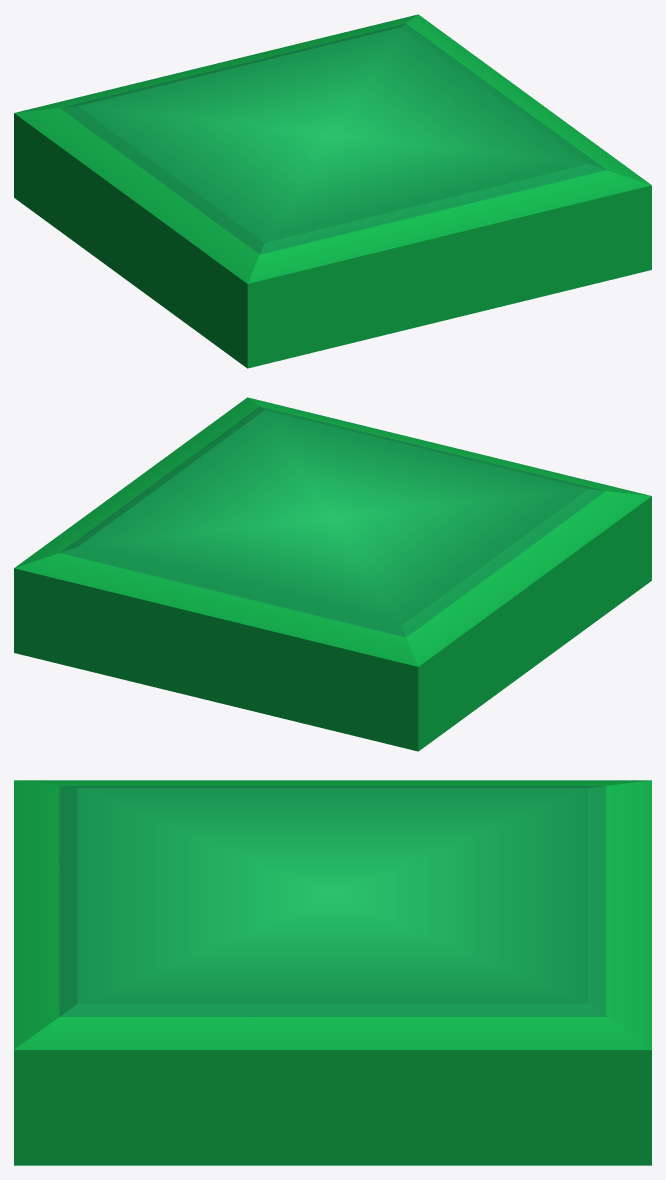
Rendered from Shape_Square.fbx.
3 views of the same model, one above another, from view 1: azimuth 30°, elevation 25°; view 2: azimuth 150°, elevation 25°; view 3: azimuth 270°, elevation 25° (orthographic). The views are drawn at different scales.
Parts seen in each view (by area): view 1: Shape_Square; view 2: Shape_Square; view 3: Shape_Square.
Part boxes in pixels (box(x1,y1,x2,y2)): Shape_Square: box(14, 14, 651, 368); Shape_Square: box(14, 397, 651, 751); Shape_Square: box(14, 780, 651, 1165).
Size of the model in its own units: 0.6 by 0.16 by 0.6.
1 material, 1 textured.
